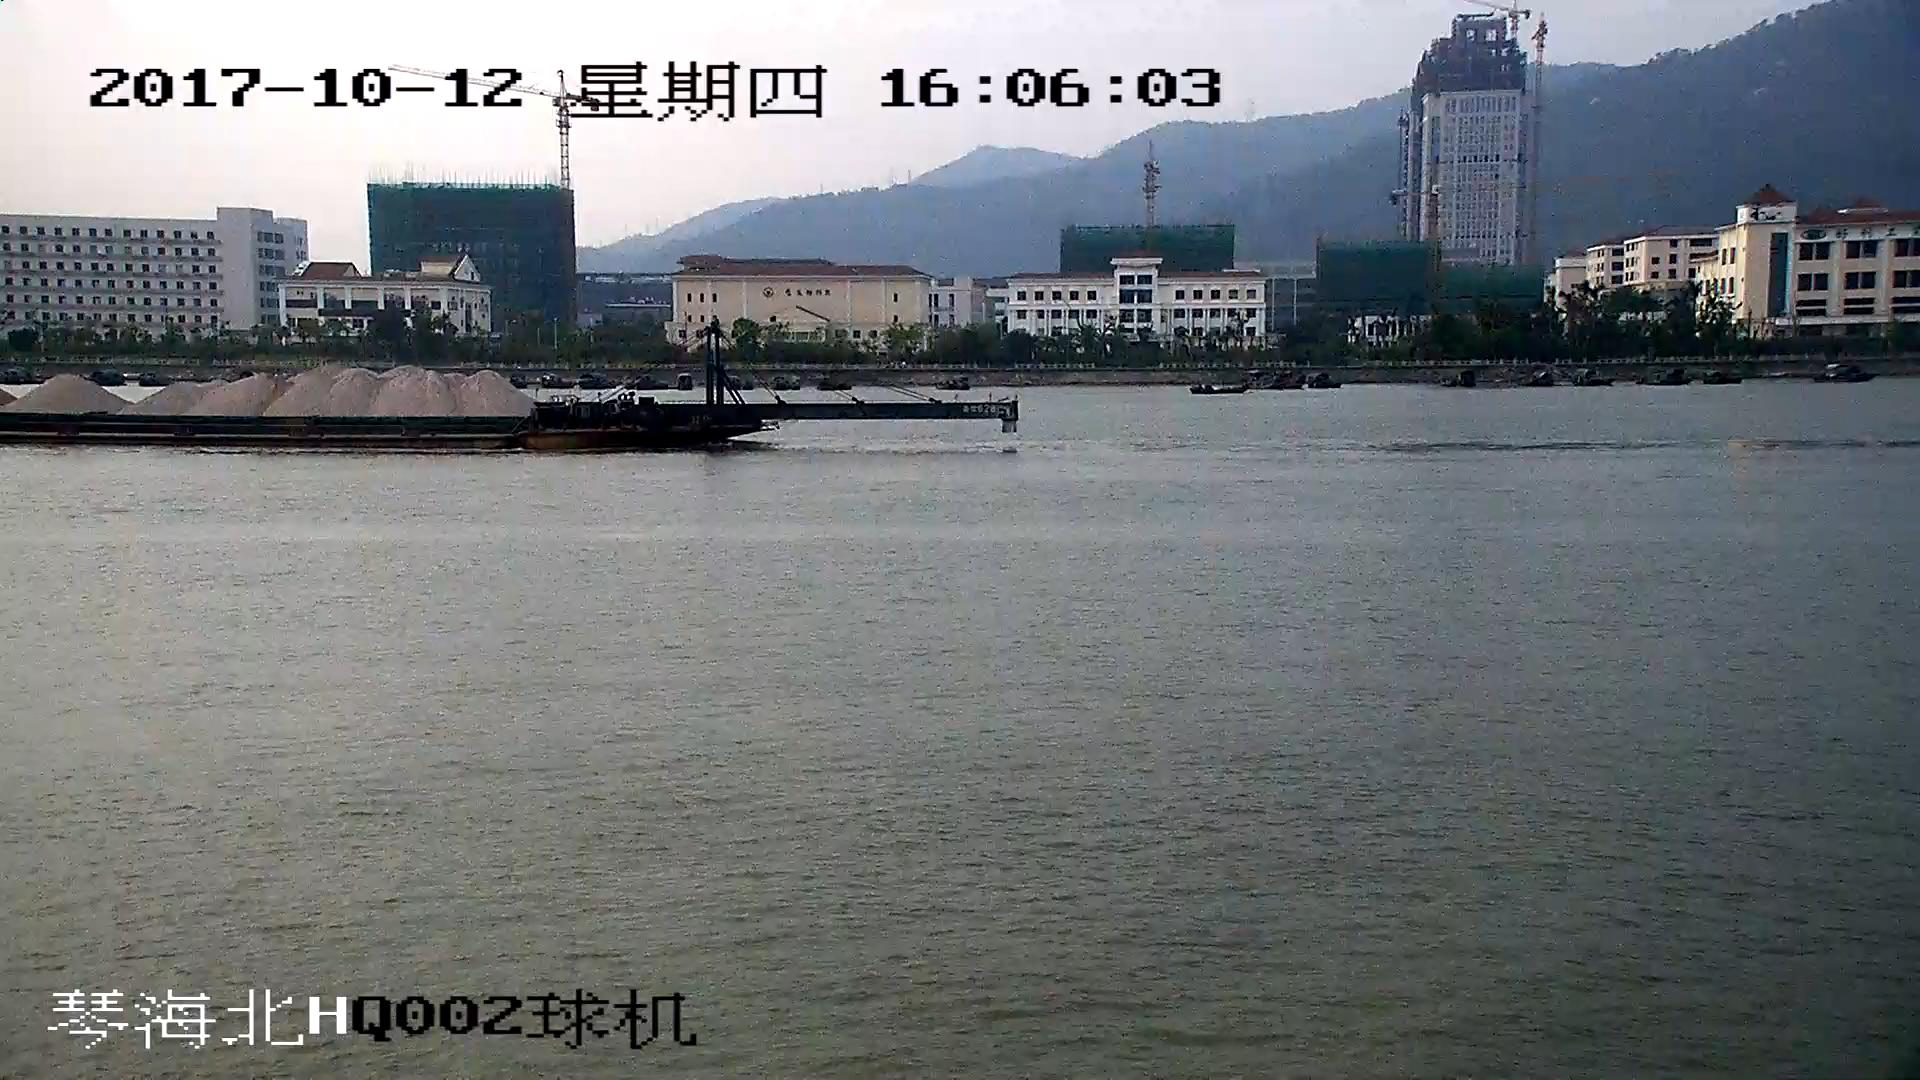ore carrier: (1, 321, 1020, 452)
